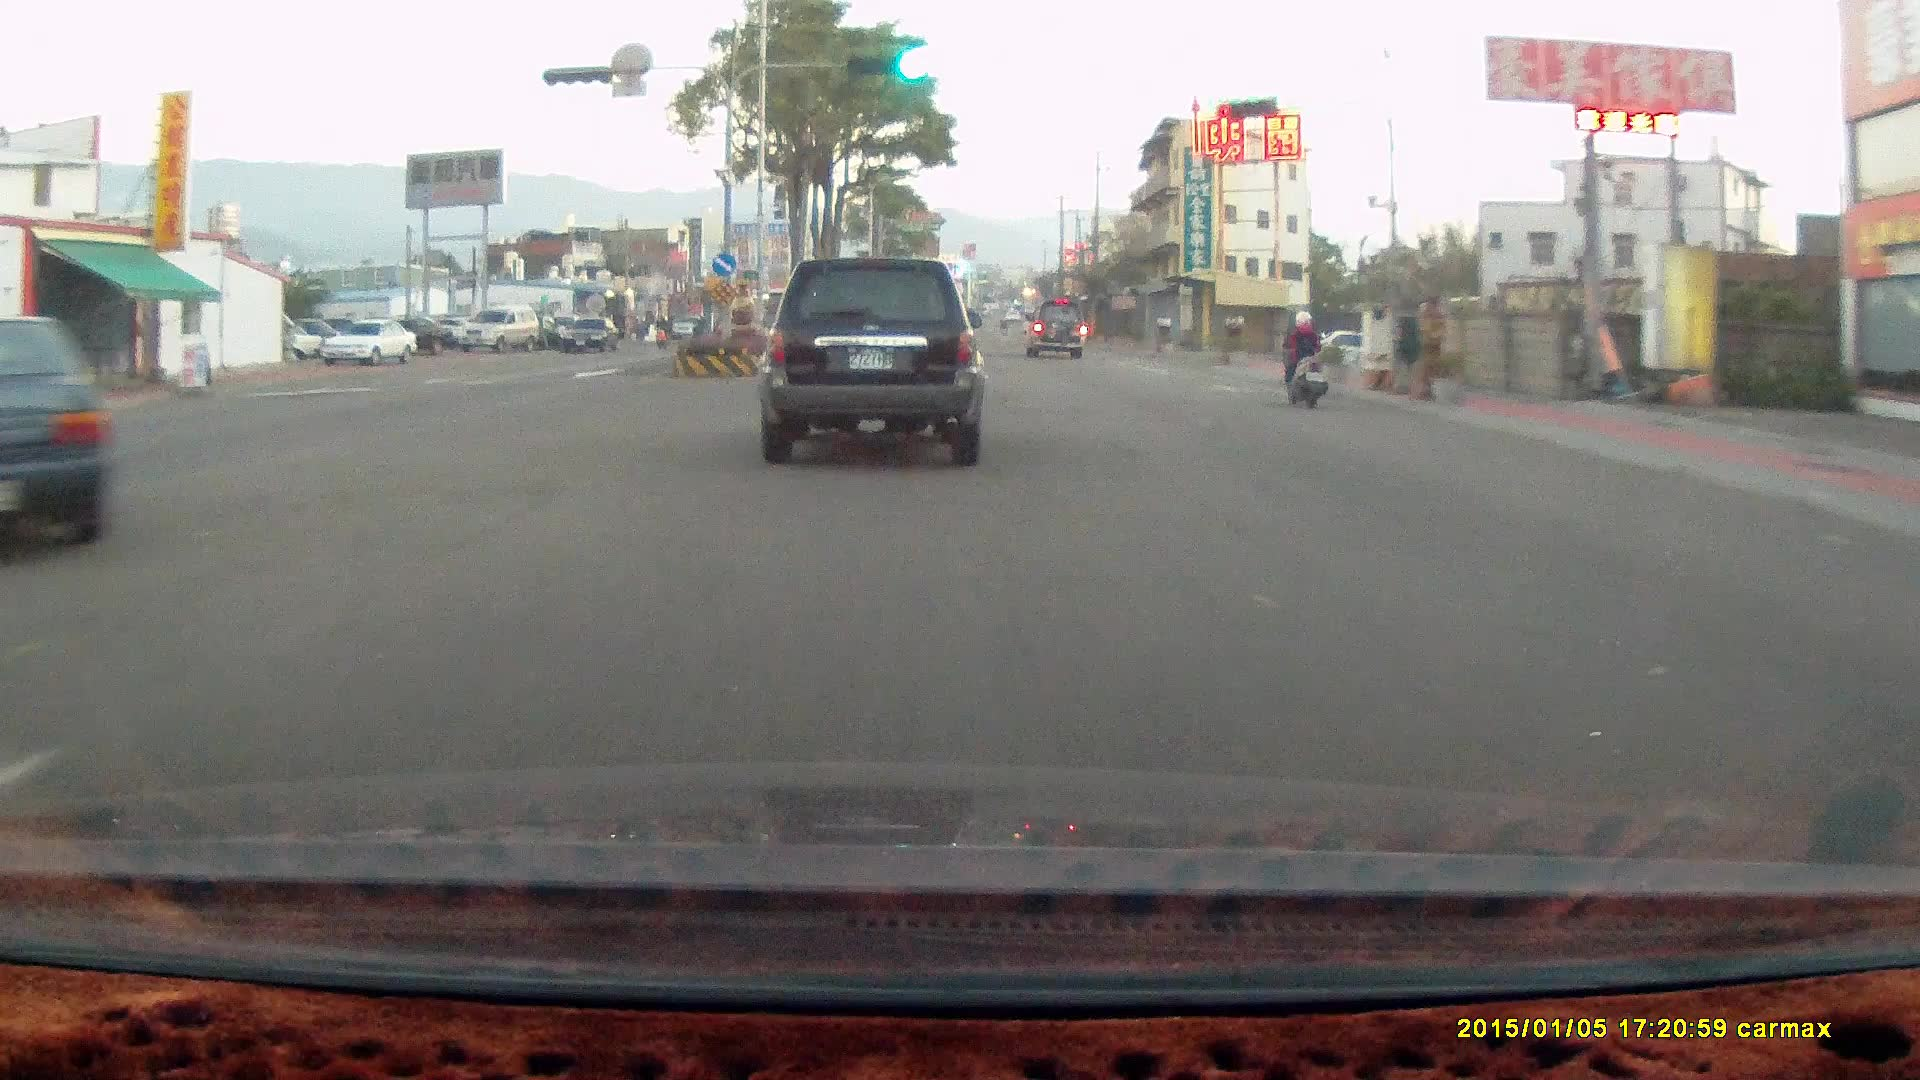rider: (1269, 304, 1339, 416), (1276, 305, 1327, 408)
vehicle: (766, 253, 996, 466), (759, 253, 984, 463), (1, 310, 127, 549), (325, 321, 421, 370), (319, 318, 416, 366), (455, 304, 542, 355), (455, 304, 541, 355), (1022, 299, 1085, 358), (1028, 300, 1088, 361), (369, 314, 452, 354), (560, 317, 621, 354)
